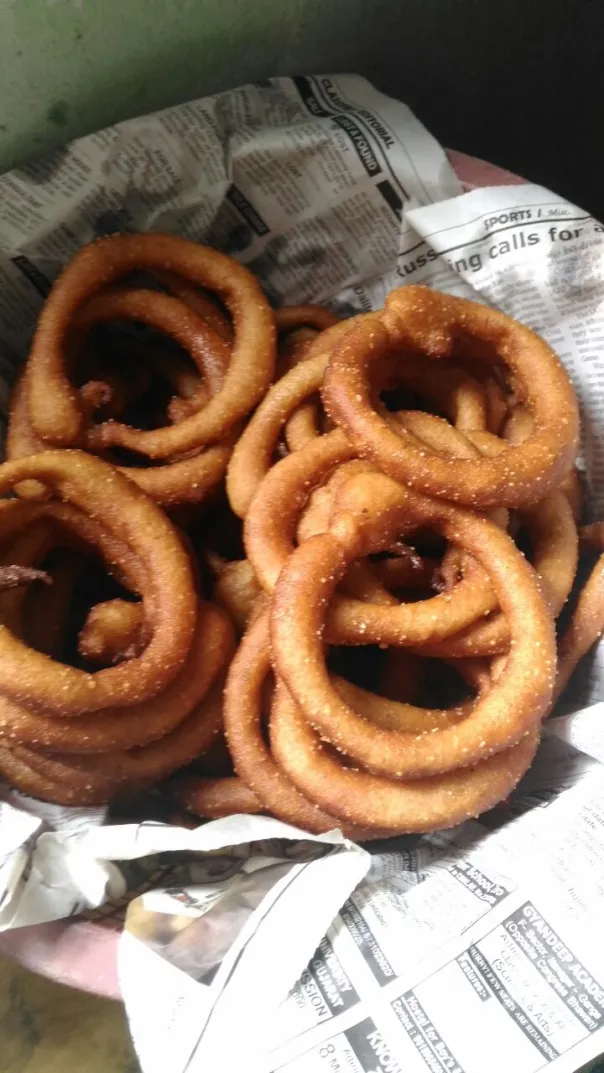sel_roti: (272, 495, 562, 752), (338, 286, 604, 505), (34, 233, 280, 452), (0, 452, 199, 712), (290, 756, 536, 834)
